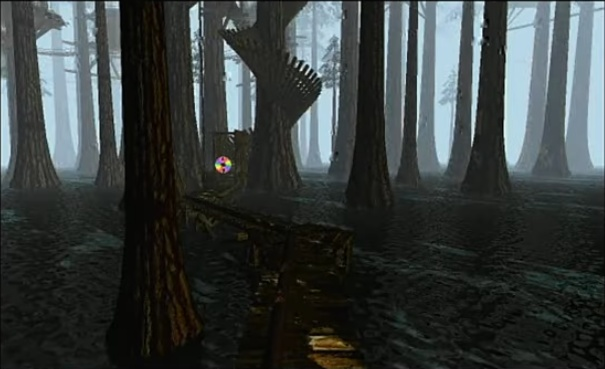Waiting: (211, 153, 236, 176)
